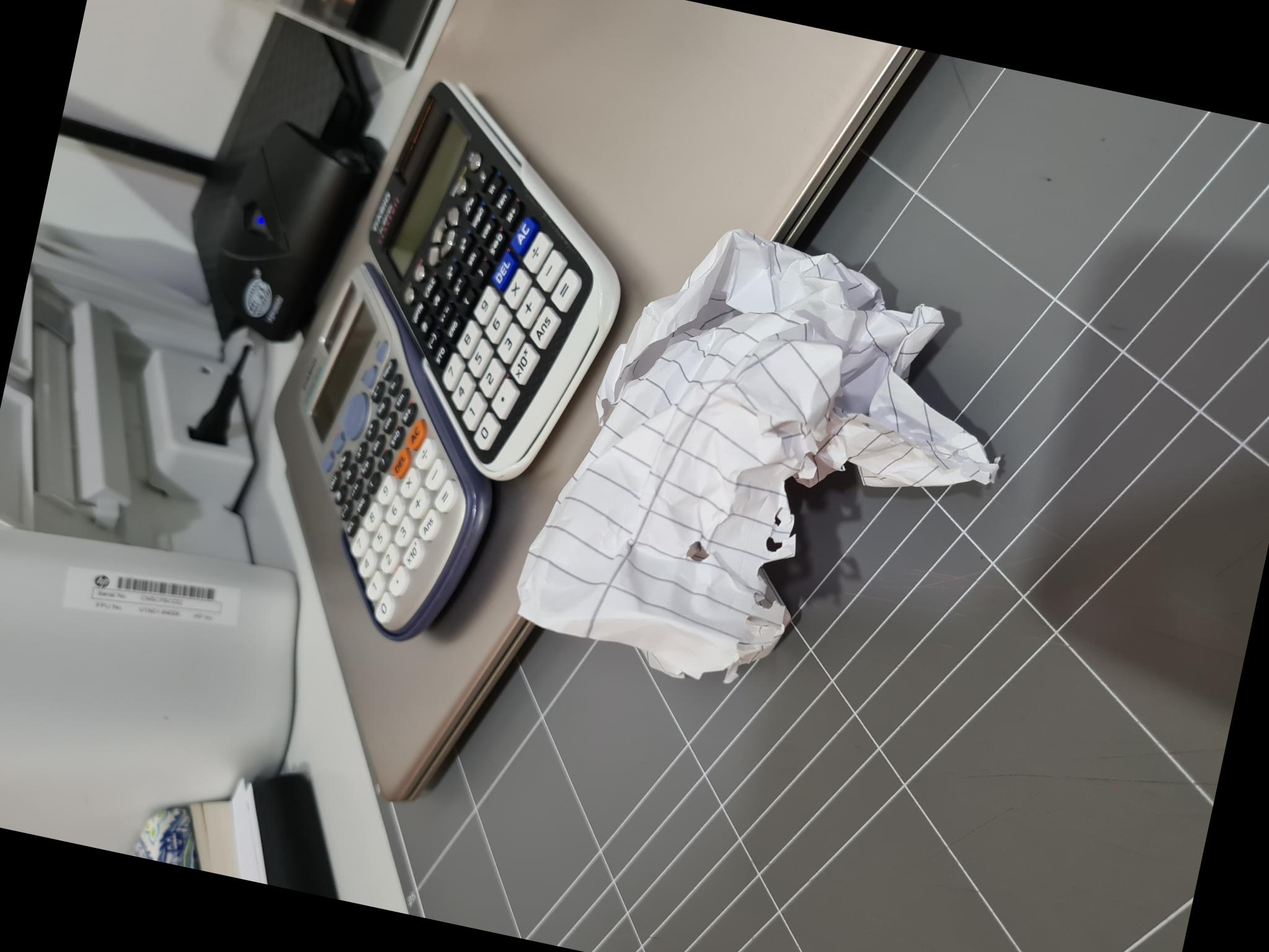Kertas: (240, 484, 700, 936)
